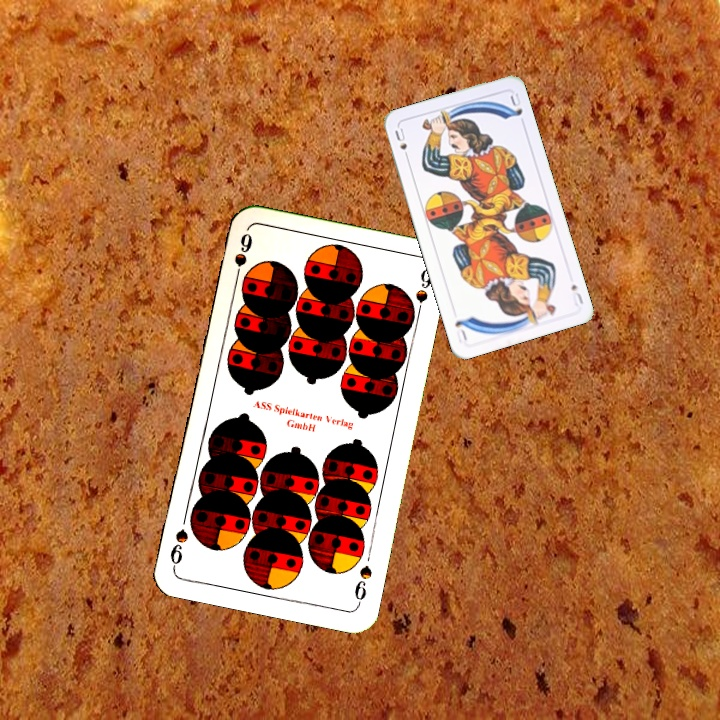S9: (230, 229, 255, 287), (350, 561, 374, 608)
SU: (391, 124, 412, 163), (567, 280, 586, 309)
